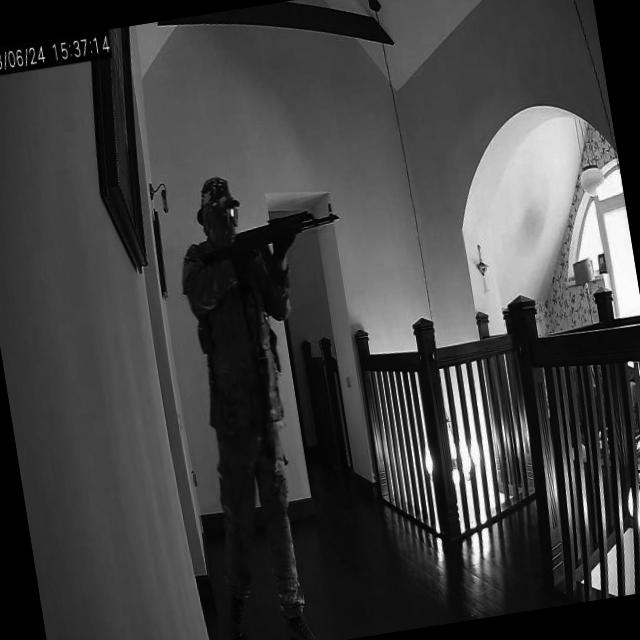gun: (194, 202, 344, 268)
person with a gun: (165, 157, 406, 640)
